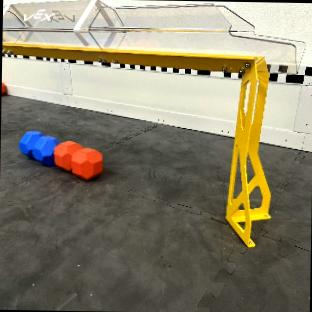V5_BLUE: (18, 130, 59, 165)
V5_RED: (53, 138, 103, 180), (1, 82, 5, 94)
